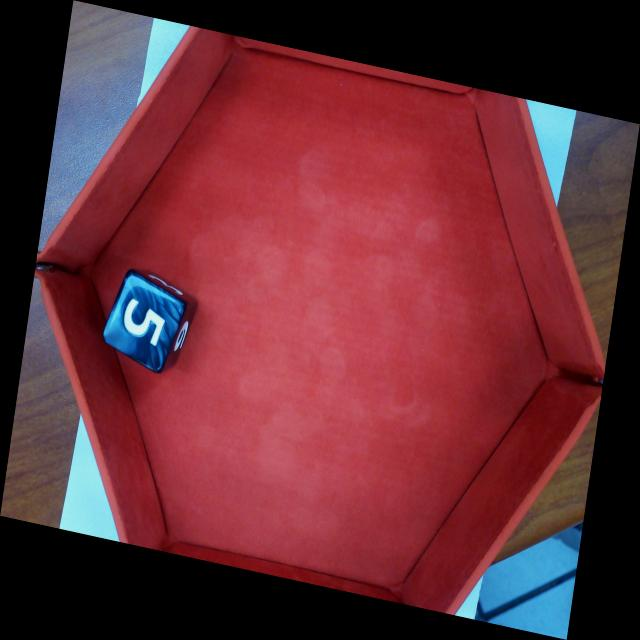dice: (100, 274, 184, 378)
